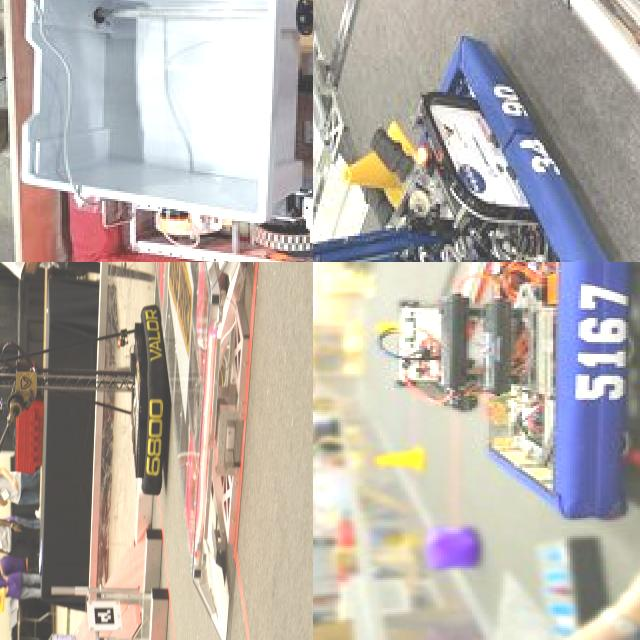FRC-Robots: (0, 0, 313, 262), (313, 12, 584, 262), (367, 262, 640, 495), (0, 315, 174, 622)
